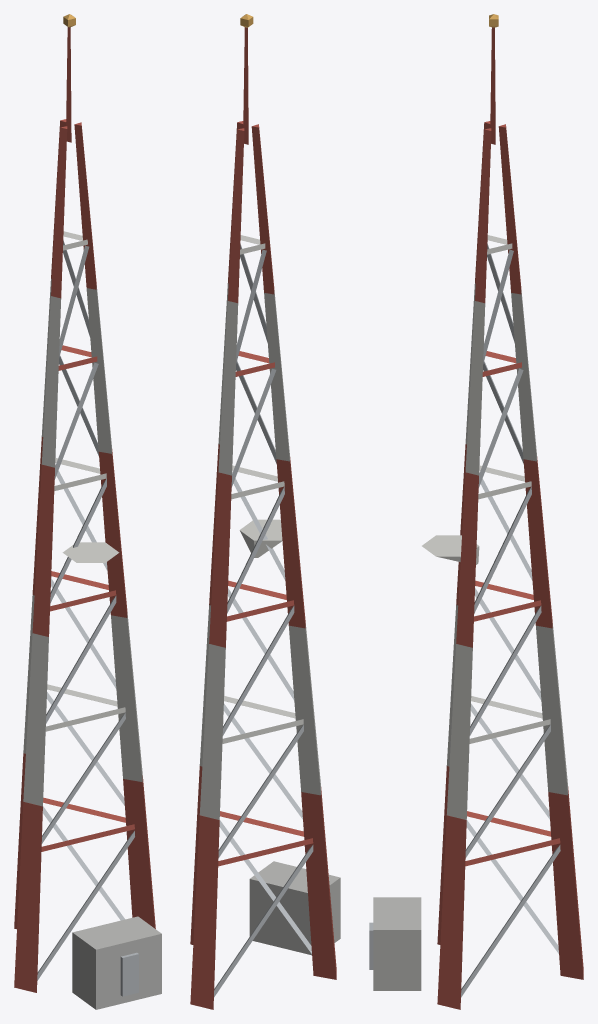
The model's file is broadcast-tower.glb.
3 views of the same model, side by side, from view 1: azimuth 30°, elevation 25°; view 2: azimuth 150°, elevation 25°; view 3: azimuth 270°, elevation 25° (orthographic).
Visible parts, largest first — view 1: LOD0; view 2: LOD0; view 3: LOD0.
Boxes of the visible parts, x1=… form: LOD0: x1=14, y1=14, x2=161, y2=1009; LOD0: x1=190, y1=14, x2=340, y2=1009; LOD0: x1=369, y1=14, x2=583, y2=1009.
Size of what is drawn, in the model's own units: 0.1749 by 1.1 by 0.222.
